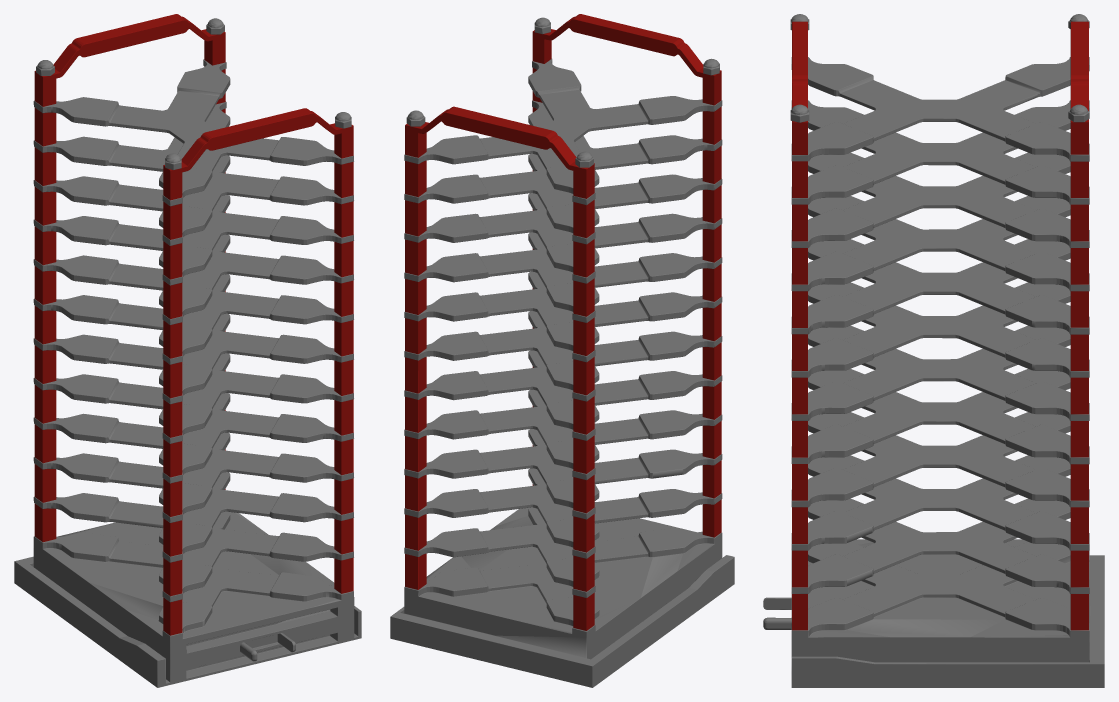
3 views of the same model, side by side, from view 1: azimuth 30°, elevation 25°; view 2: azimuth 150°, elevation 25°; view 3: azimuth 270°, elevation 25° (orthographic). The views are drawn at different scales.
Parts seen in each view (by area): view 1: 108; view 2: 108; view 3: 108.
Boxes of the visible parts, <box> form: 108: <box>14,14,361,687</box>; 108: <box>390,14,734,687</box>; 108: <box>763,14,1104,687</box>.
Size of the model in its own units: 0.1641 by 0.4122 by 0.2174.
